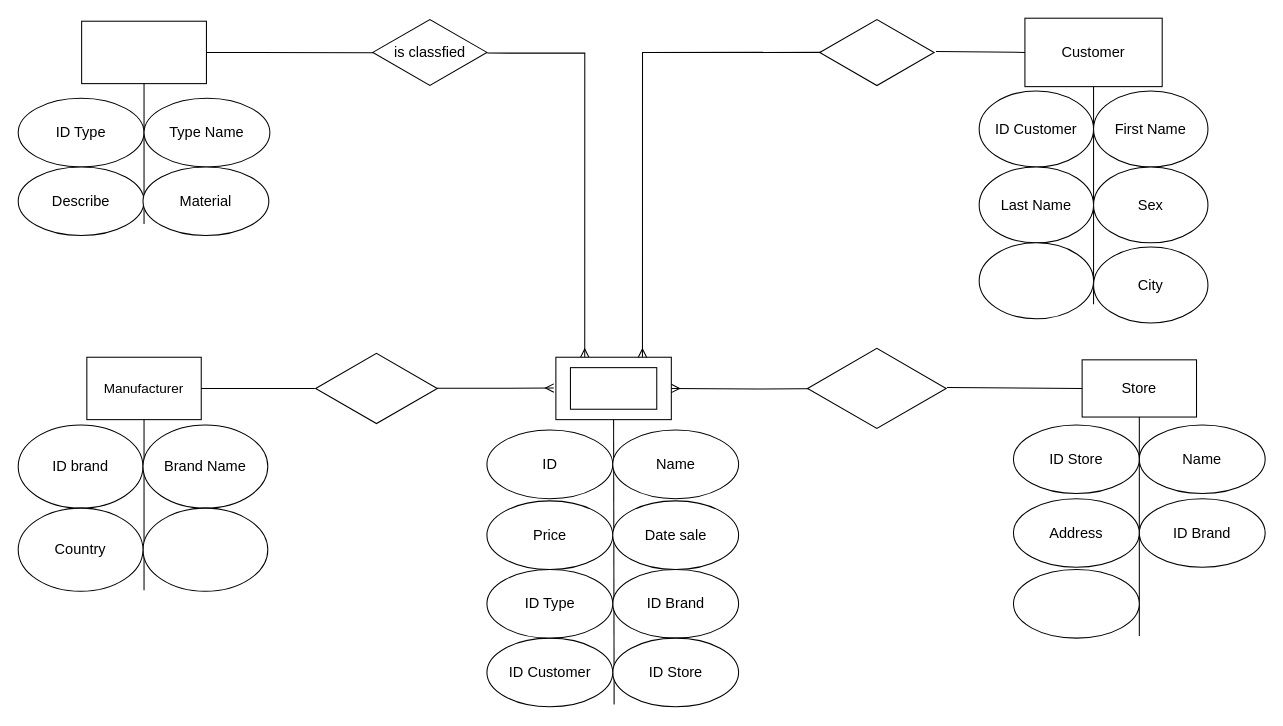
Image size: 1283x726. Some labels were removed from this diagram. The shapes that lost their labels are listed below. From the top down, each one's box as (x1, y1, x2, y2) in pixels, then its label:
(81, 20, 206, 84): Characteristics
(819, 17, 934, 87): purchased by
(978, 242, 1094, 319): Age
(315, 351, 437, 425): Created by
(569, 367, 657, 409): Houseware
(807, 346, 946, 430): is put for sell in
(142, 507, 268, 591): Founder
(1012, 568, 1139, 638): Email
